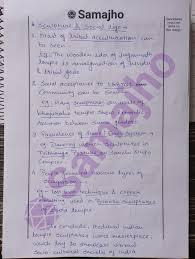text: (25, 52, 176, 233), (37, 58, 153, 71), (31, 167, 144, 180), (38, 50, 153, 62), (40, 98, 145, 111), (31, 129, 155, 140), (30, 230, 153, 241), (35, 188, 144, 200), (37, 149, 153, 160), (36, 197, 160, 207), (39, 140, 150, 151), (36, 118, 136, 130), (36, 108, 145, 119), (37, 22, 129, 35), (32, 79, 149, 89), (39, 31, 154, 41), (39, 222, 144, 232), (33, 248, 137, 258), (32, 240, 137, 249), (37, 88, 131, 98), (39, 204, 94, 217), (78, 9, 125, 23), (36, 66, 82, 80), (40, 178, 89, 187), (38, 40, 68, 49), (41, 159, 64, 167), (165, 16, 183, 22), (166, 24, 182, 29), (166, 21, 182, 25), (165, 28, 181, 32)
